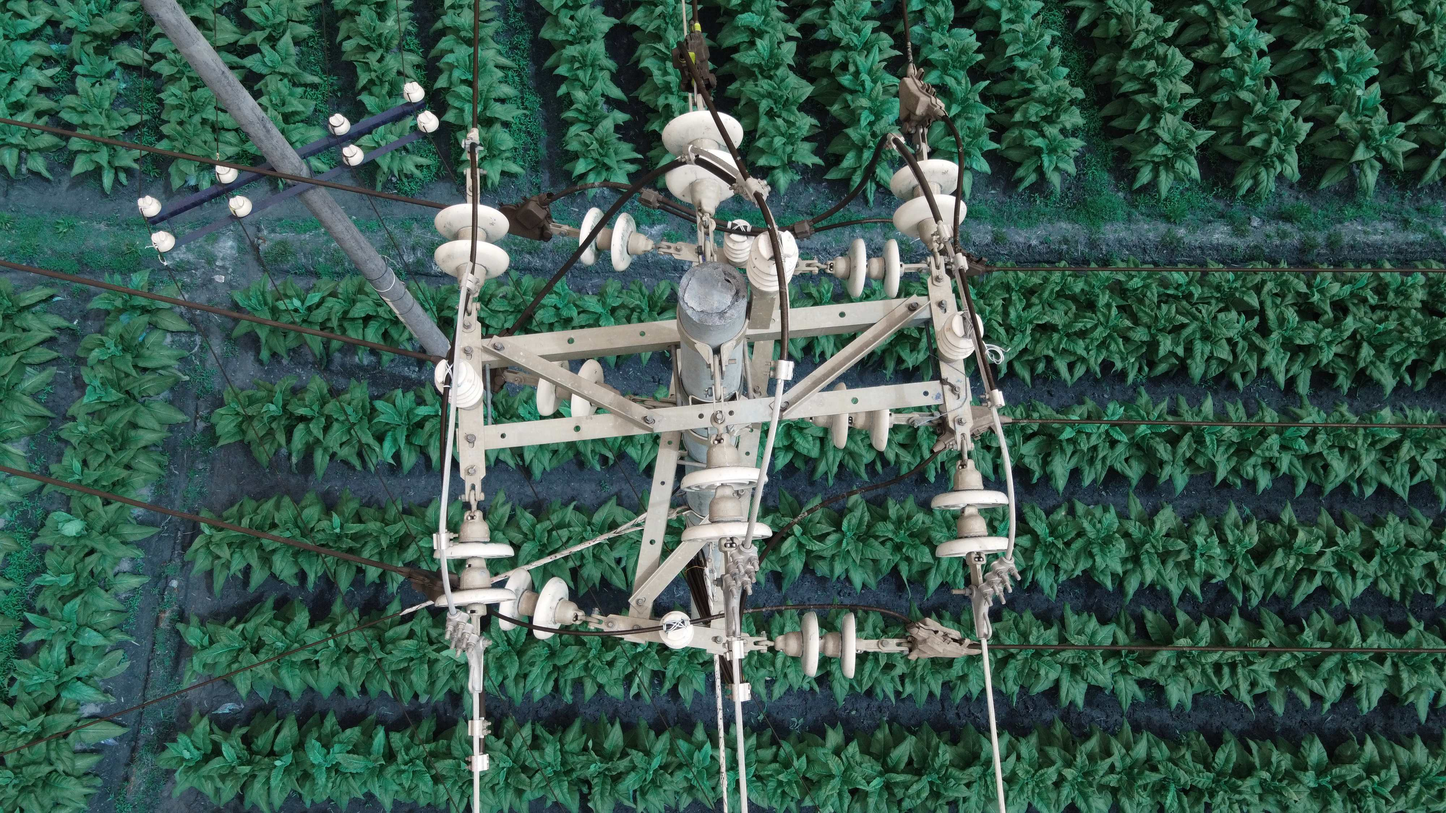severe_soiling_no_discharge_whole: (500, 569, 582, 638), (576, 206, 651, 270)
